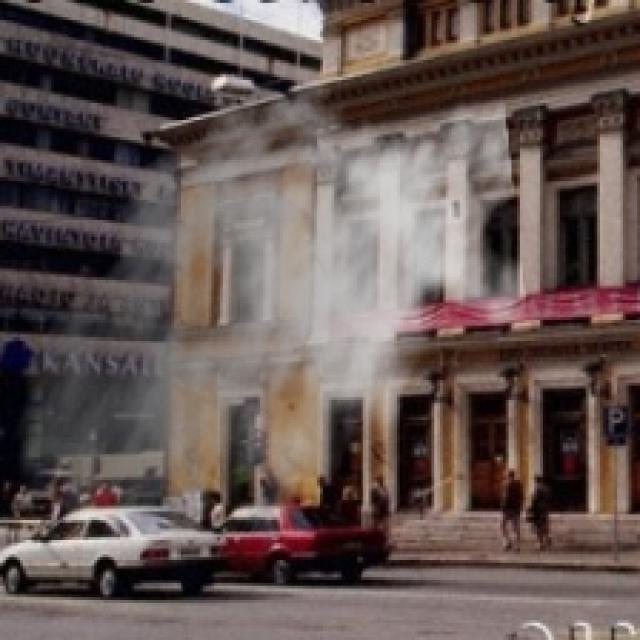Smoke: (11, 63, 528, 583)
